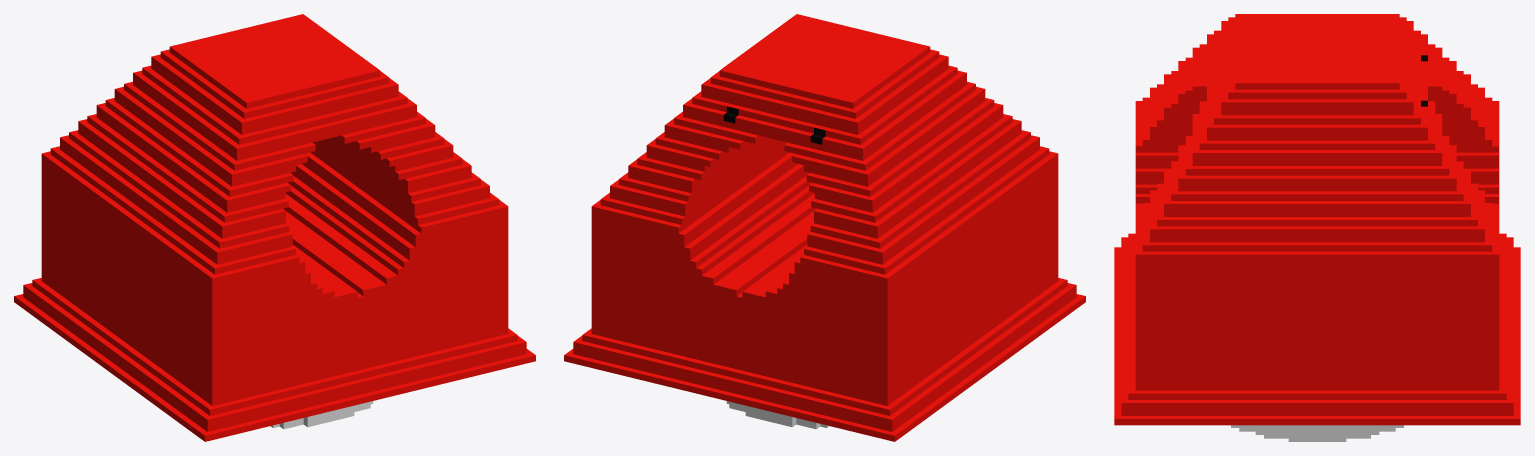
The model's file is RingRocket.fbx.
3 renders of one model, left to right at view 1: azimuth 30°, elevation 25°; view 2: azimuth 150°, elevation 25°; view 3: azimuth 270°, elevation 25°, orthographic. The views are drawn at different scales.
Visible parts, largest first — view 1: Cube, Cylinder; view 2: Cube, Cylinder; view 3: Cube, Cylinder.
Part boxes in pixels (x1,y1,x2,y2): Cube: (14,14,535,441); Cylinder: (270,401,373,429); Cube: (564,14,1085,441); Cylinder: (726,401,829,429); Cube: (1114,14,1520,425); Cylinder: (1231,425,1403,441).
Size of the model in its own units: 227 by 211 by 227.
